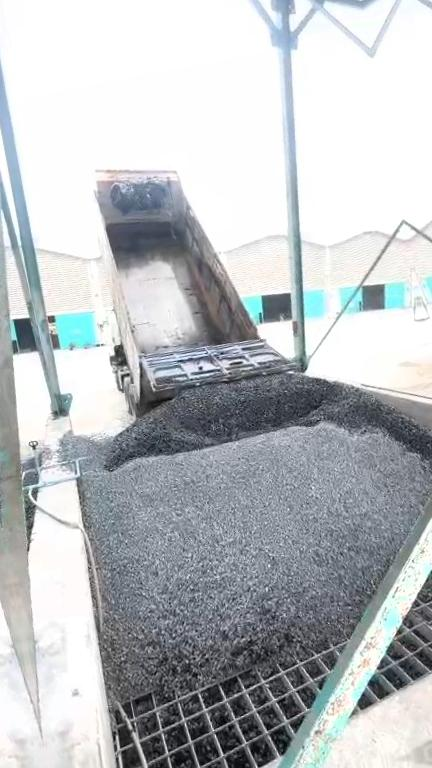gravel: (60, 364, 432, 699), (421, 521, 432, 595)
sand: (400, 358, 432, 396)
